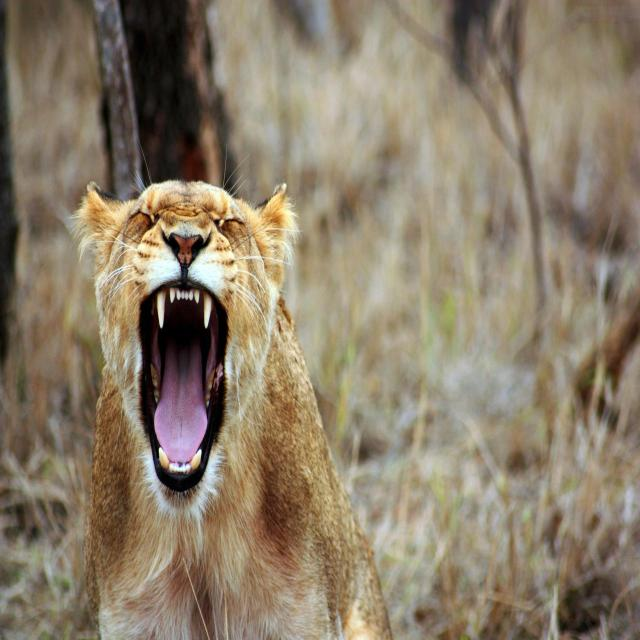Lion: (71, 174, 392, 640)
